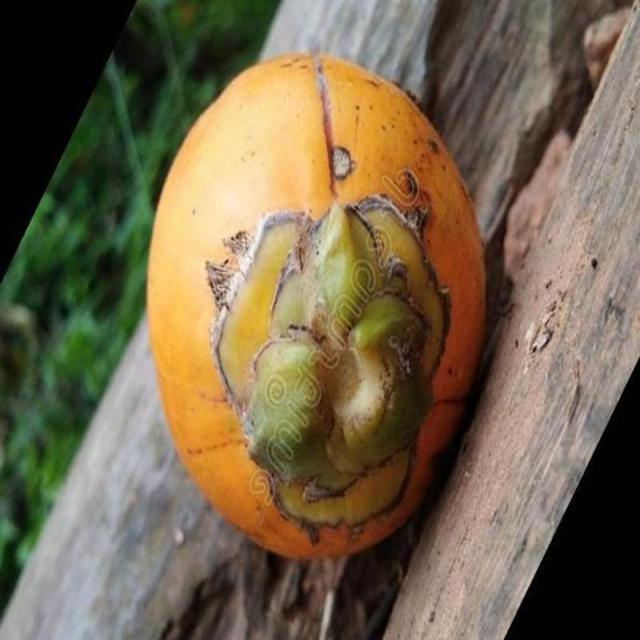good: (145, 53, 488, 566)
